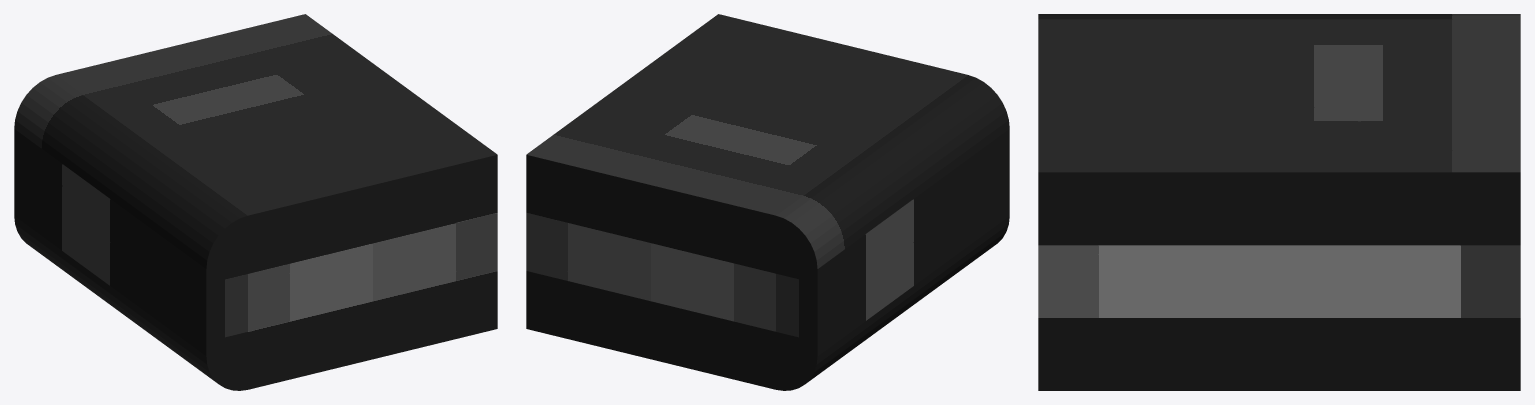
The model's file is book_642x04.obj.
The picture shows the model from 3 angles, left to right: view 1: azimuth 30°, elevation 25°; view 2: azimuth 150°, elevation 25°; view 3: azimuth 270°, elevation 25°; orthographic projection. The views are drawn at different scales.
Visible parts, largest first — view 1: Cube.001; view 2: Cube.001; view 3: Cube.001.
Boxes of the visible parts, box(x1,y1,x2,y2) form: Cube.001: box(14, 14, 497, 390); Cube.001: box(526, 14, 1009, 390); Cube.001: box(1038, 14, 1520, 390).
Bounding box in the file's own units: 0.875 × 0.5 × 1.
